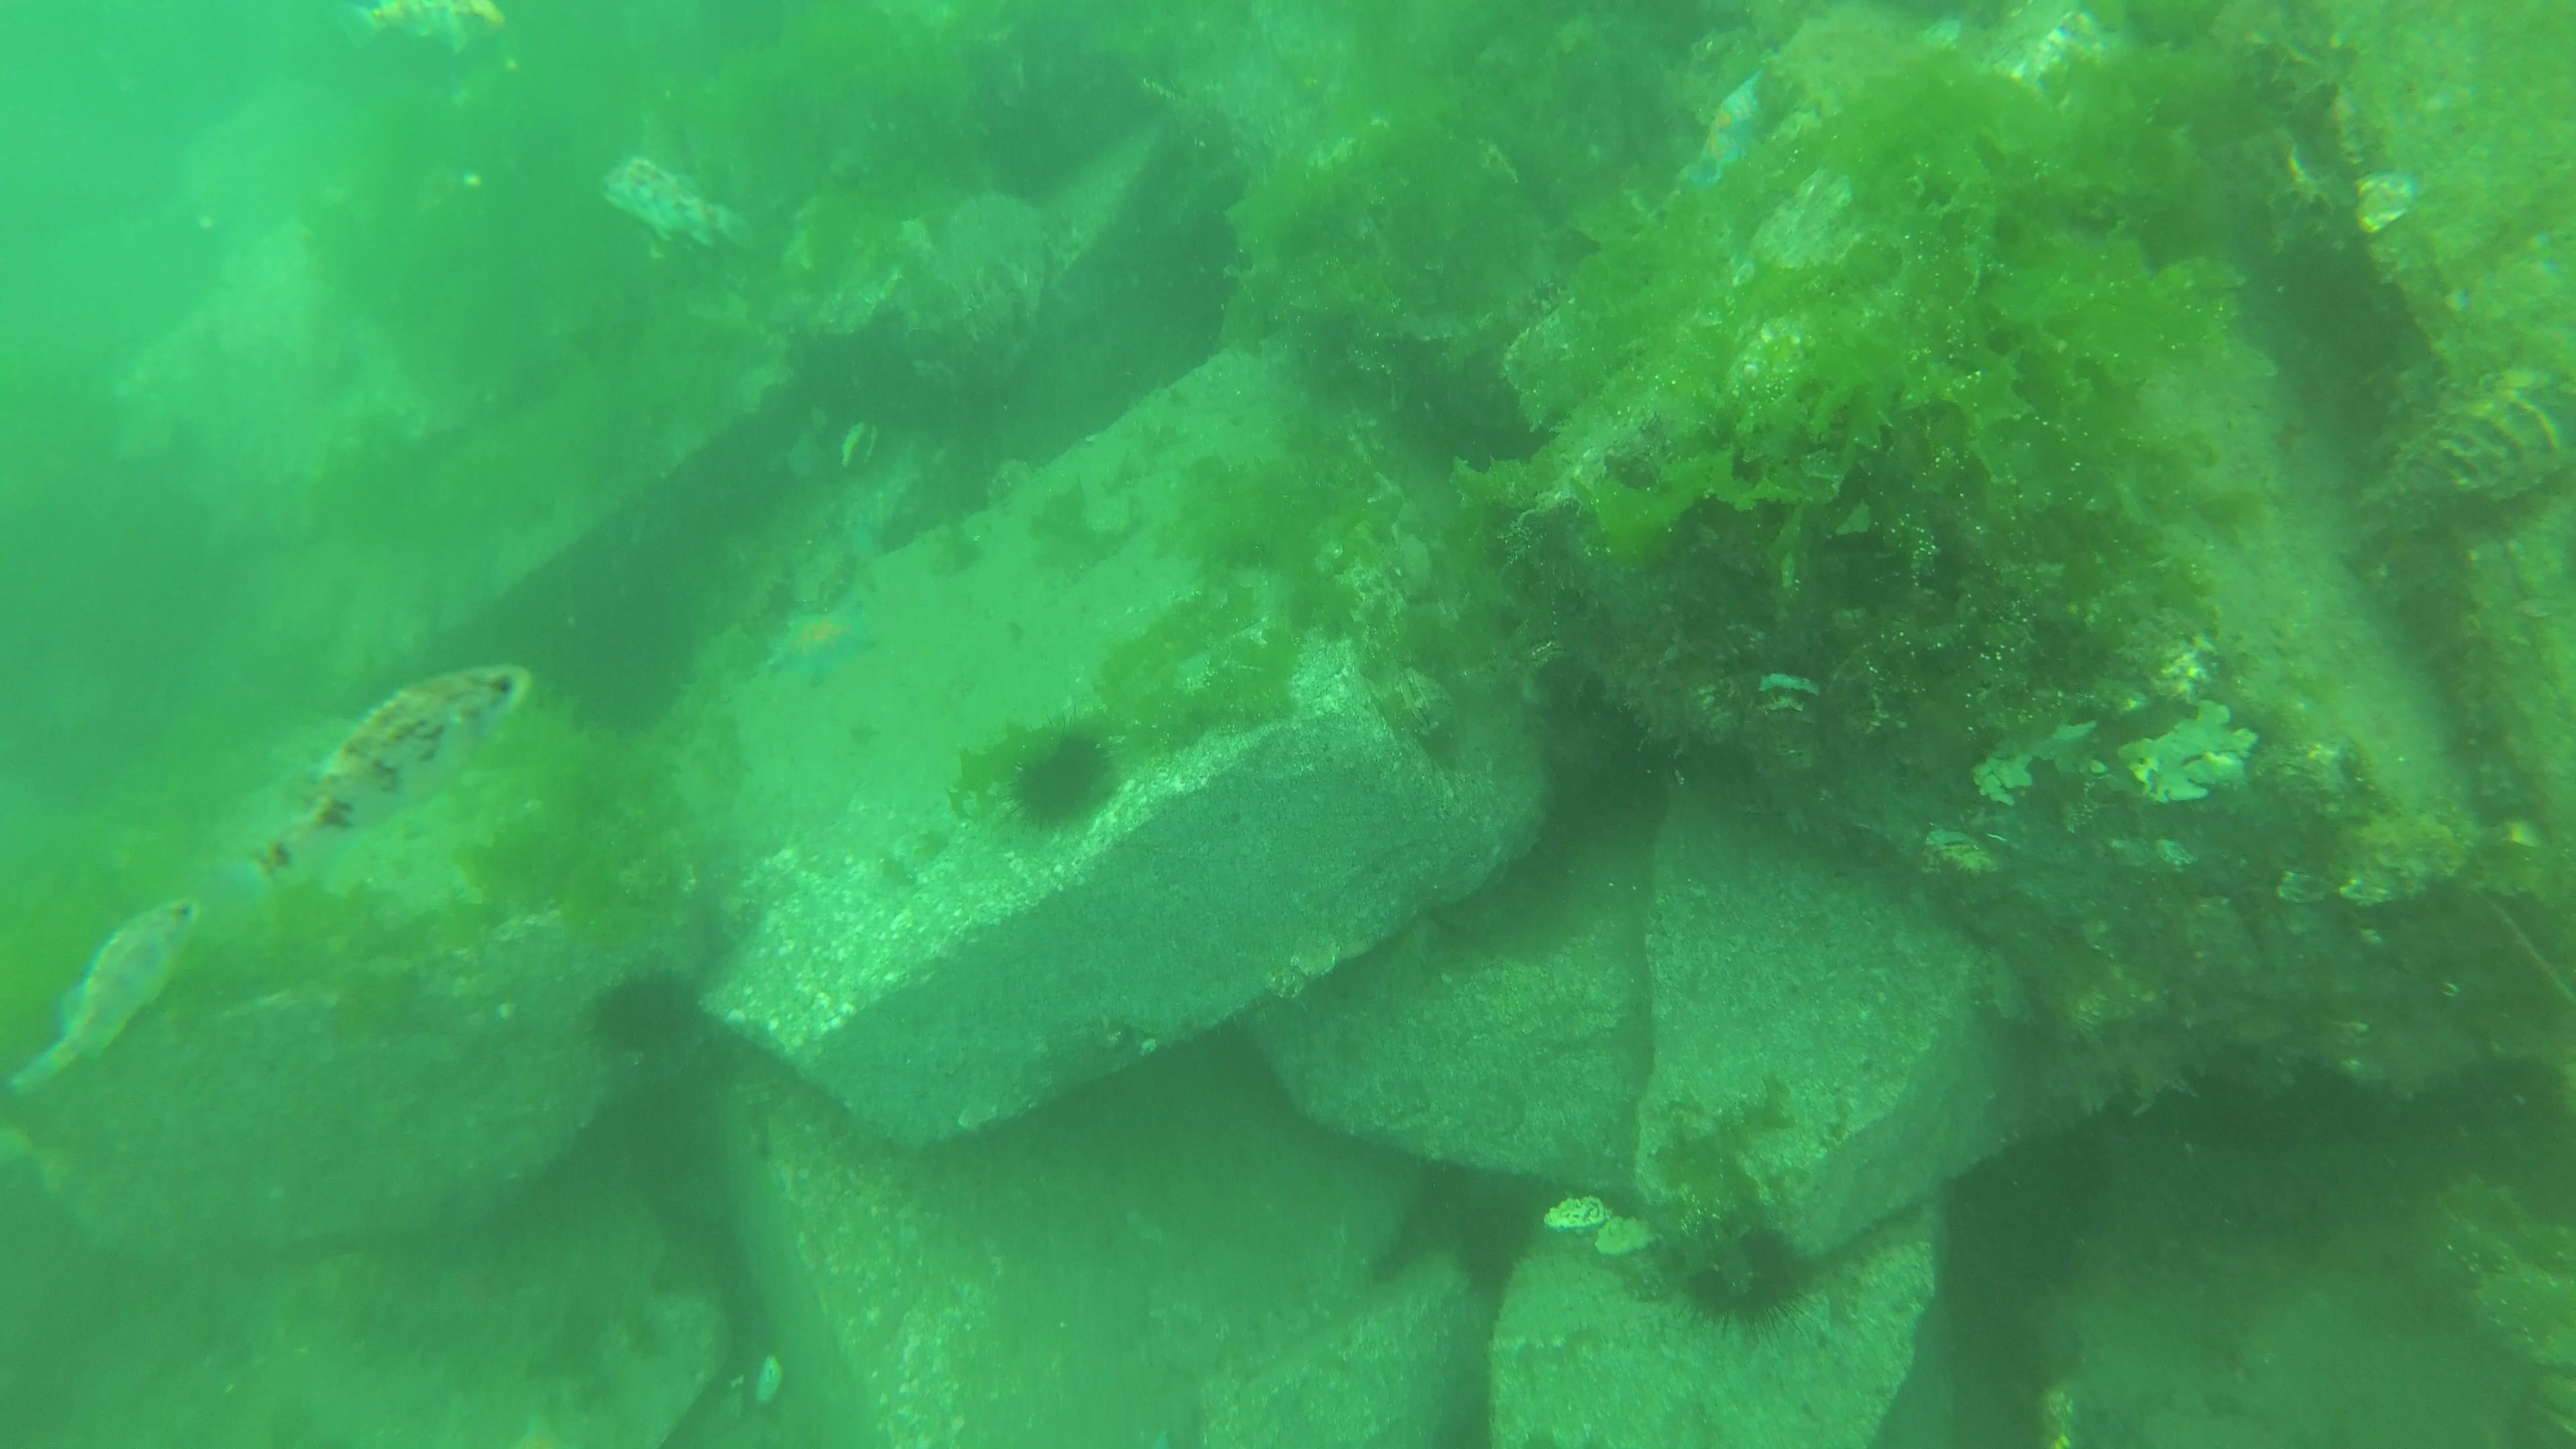echinus: (1675, 1221, 1803, 1338), (584, 966, 708, 1063), (1003, 729, 1115, 830), (1454, 1194, 1541, 1300)
starfish: (763, 607, 872, 692), (1695, 74, 1767, 180)
